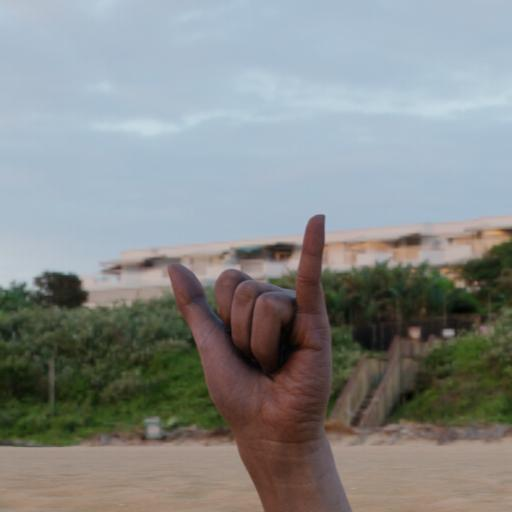Y: (158, 206, 338, 436)
